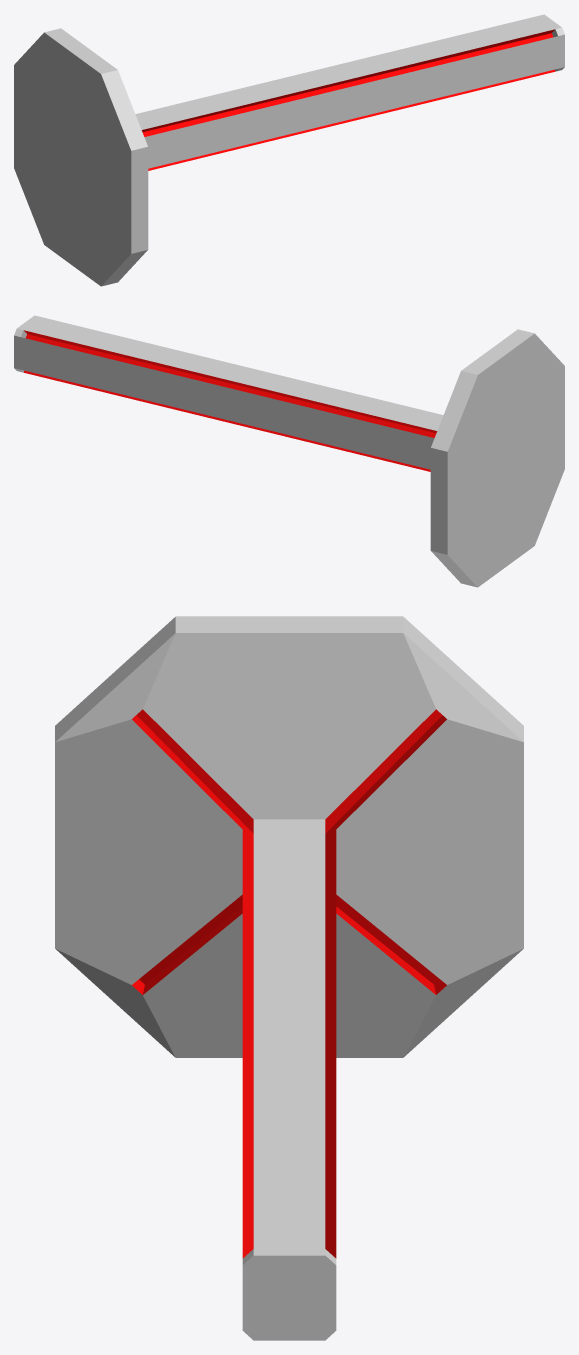
The model's file is disk_fixed_mesh.obj.
The picture shows the model from 3 angles, top to bottom: view 1: azimuth 30°, elevation 25°; view 2: azimuth 150°, elevation 25°; view 3: azimuth 270°, elevation 25°; orthographic projection. The views are drawn at different scales.
Parts seen in each view (by area): view 1: Cube; view 2: Cube; view 3: Cube.
Boxes of the visible parts, bbox=[...] form: Cube: bbox=[14, 14, 564, 286]; Cube: bbox=[14, 315, 564, 587]; Cube: bbox=[55, 616, 523, 1340].
Size of the model in its own units: 0.355 by 0.15 by 0.15.
